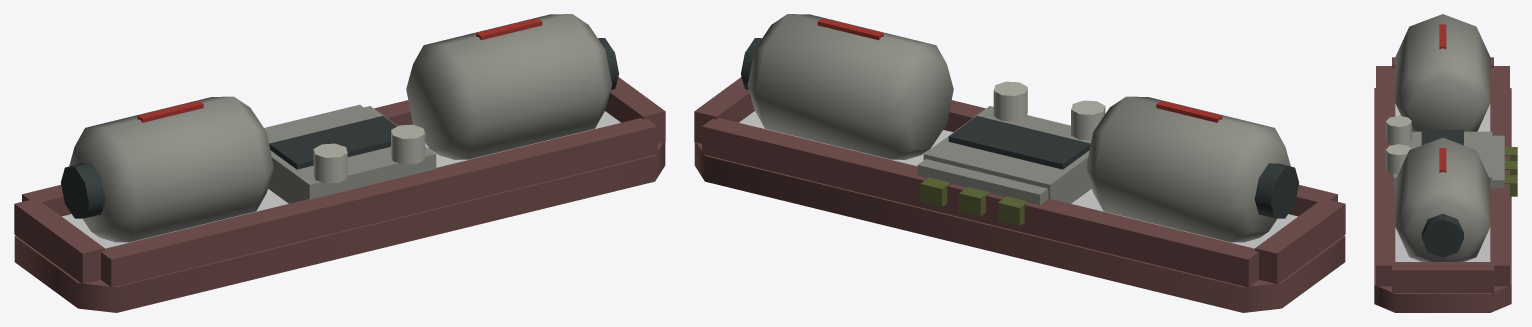
Rendered from basic_recharger.obj.
The picture shows the model from 3 angles, left to right: view 1: azimuth 30°, elevation 25°; view 2: azimuth 150°, elevation 25°; view 3: azimuth 270°, elevation 25°; orthographic projection. The views are drawn at different scales.
Parts seen in each view (by area): view 1: source_component_002, source_component_009, source_component_006, source_component_000, source_component_012, source_component_004, source_component_013, source_component_007, source_component_005, source_component_001, source_component_003, source_component_014 (+3 smaller); view 2: source_component_009, source_component_006, source_component_003, source_component_000, source_component_012, source_component_004, source_component_013, source_component_016, source_component_007, source_component_005, source_component_001, source_component_002 (+7 smaller); view 3: source_component_006, source_component_009, source_component_002, source_component_000, source_component_003, source_component_005, source_component_010, source_component_012, source_component_001, source_component_014, source_component_016, source_component_015 (+6 smaller).
Part boxes in pixels (bbox=[...]): source_component_002: bbox=[101, 118, 657, 287]; source_component_009: bbox=[406, 14, 612, 159]; source_component_006: bbox=[69, 96, 273, 242]; source_component_000: bbox=[14, 142, 665, 312]; source_component_012: bbox=[266, 106, 436, 203]; source_component_004: bbox=[14, 198, 104, 284]; source_component_013: bbox=[269, 116, 396, 169]; source_component_007: bbox=[60, 163, 105, 218]; source_component_005: bbox=[605, 77, 665, 143]; source_component_001: bbox=[62, 111, 620, 248]; source_component_003: bbox=[22, 100, 412, 216]; source_component_014: bbox=[313, 143, 347, 183]; source_component_009: bbox=[747, 14, 953, 159]; source_component_006: bbox=[1086, 96, 1290, 242]; source_component_003: bbox=[702, 118, 1258, 287]; source_component_000: bbox=[694, 142, 1345, 312]; source_component_012: bbox=[923, 106, 1091, 203]; source_component_004: bbox=[1255, 198, 1345, 284]; source_component_013: bbox=[948, 116, 1090, 169]; source_component_016: bbox=[917, 159, 1048, 205]; source_component_007: bbox=[1254, 163, 1299, 218]; source_component_005: bbox=[694, 77, 754, 143]; source_component_001: bbox=[739, 111, 1297, 248]; source_component_002: bbox=[943, 100, 1337, 216]; source_component_006: bbox=[1395, 14, 1490, 131]; source_component_009: bbox=[1395, 137, 1490, 261]; source_component_002: bbox=[1376, 66, 1395, 286]; source_component_000: bbox=[1374, 88, 1511, 312]; source_component_003: bbox=[1490, 66, 1509, 286]; source_component_005: bbox=[1392, 262, 1493, 292]; source_component_010: bbox=[1421, 213, 1463, 257]; source_component_012: bbox=[1393, 131, 1492, 188]; source_component_001: bbox=[1395, 104, 1490, 261]; source_component_014: bbox=[1385, 116, 1411, 144]; source_component_016: bbox=[1492, 135, 1504, 188]; source_component_015: bbox=[1385, 144, 1411, 174].
Bounding box in the file's own units: 2.88 × 0.68 × 0.815.
